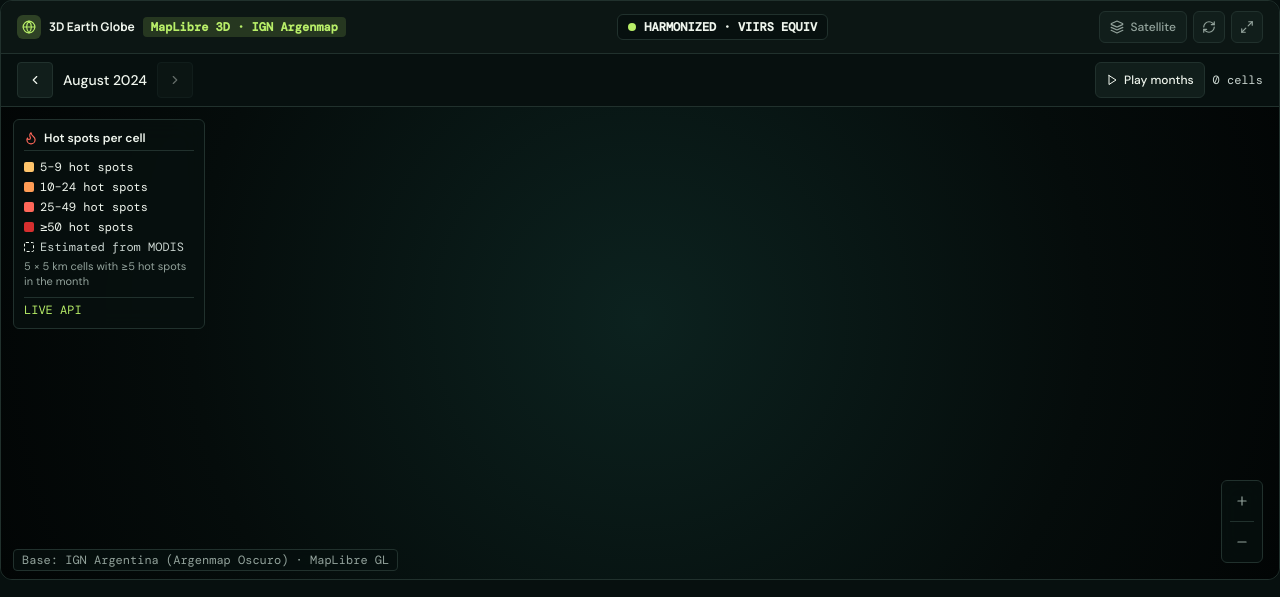
Test: GloboTerraqueo 3D Component › limits map navigation to the selected period
Expected: the button named "Next month" is disabled, [157,62,193,98]
Click the button named "Previous month". click: click(35, 80)
box: [17,62,53,98]
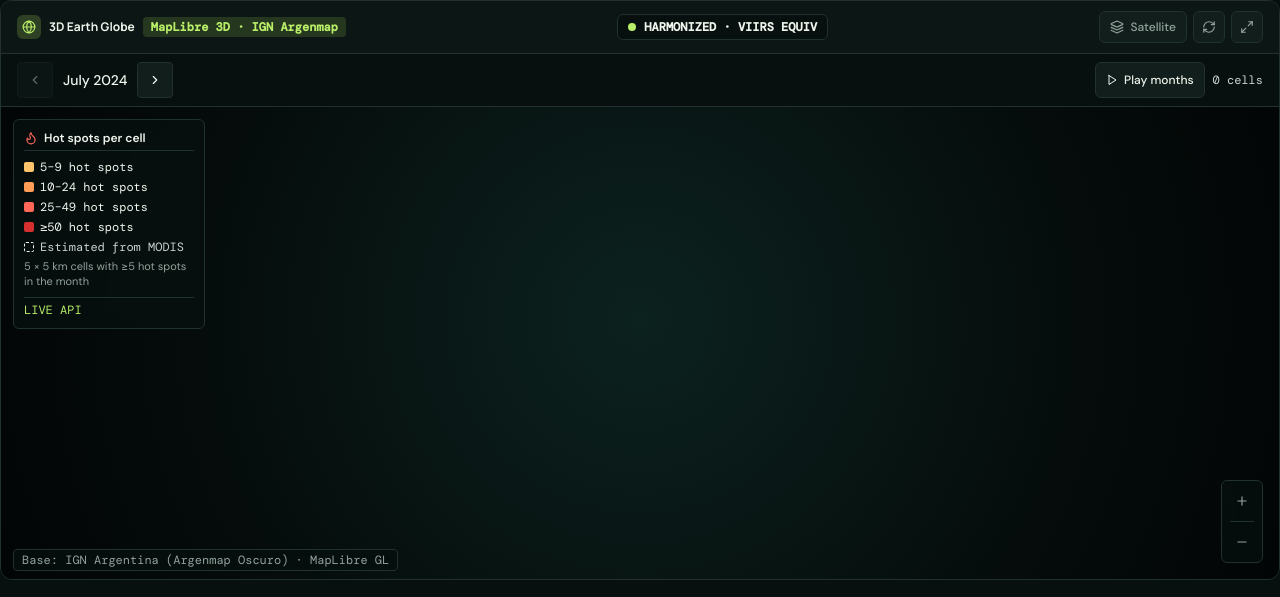
Expected: the button named "Next month" is enabled, [137,62,173,98]
